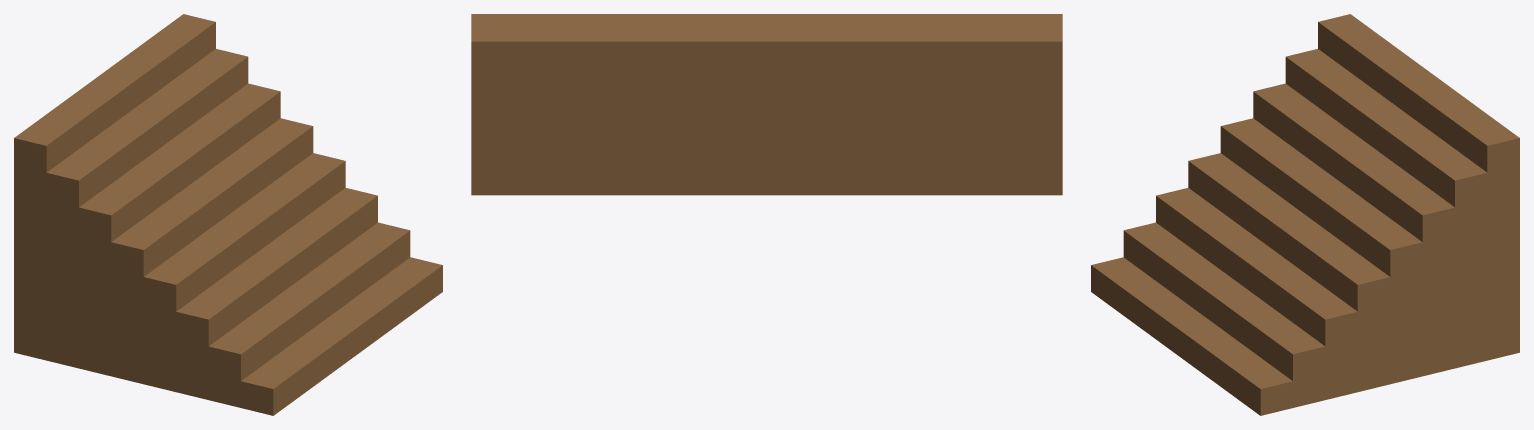
File: RPG_Tiles_Hex_Dirt_Steps_01.FBX
The picture shows the model from 3 angles, left to right: view 1: azimuth 30°, elevation 25°; view 2: azimuth 150°, elevation 25°; view 3: azimuth 270°, elevation 25°; orthographic projection. The views are drawn at different scales.
Parts seen in each view (by area): view 1: RPG_Tiles_Hex_Dirt_Steps_01; view 2: RPG_Tiles_Hex_Dirt_Steps_01; view 3: RPG_Tiles_Hex_Dirt_Steps_01.
Part boxes in pixels (box(x1,y1,x2,y2)): RPG_Tiles_Hex_Dirt_Steps_01: box(14, 14, 442, 415); RPG_Tiles_Hex_Dirt_Steps_01: box(471, 14, 1062, 195); RPG_Tiles_Hex_Dirt_Steps_01: box(1091, 14, 1519, 415).
Bounding box in the file's own units: 2220 × 1186 × 2148.
